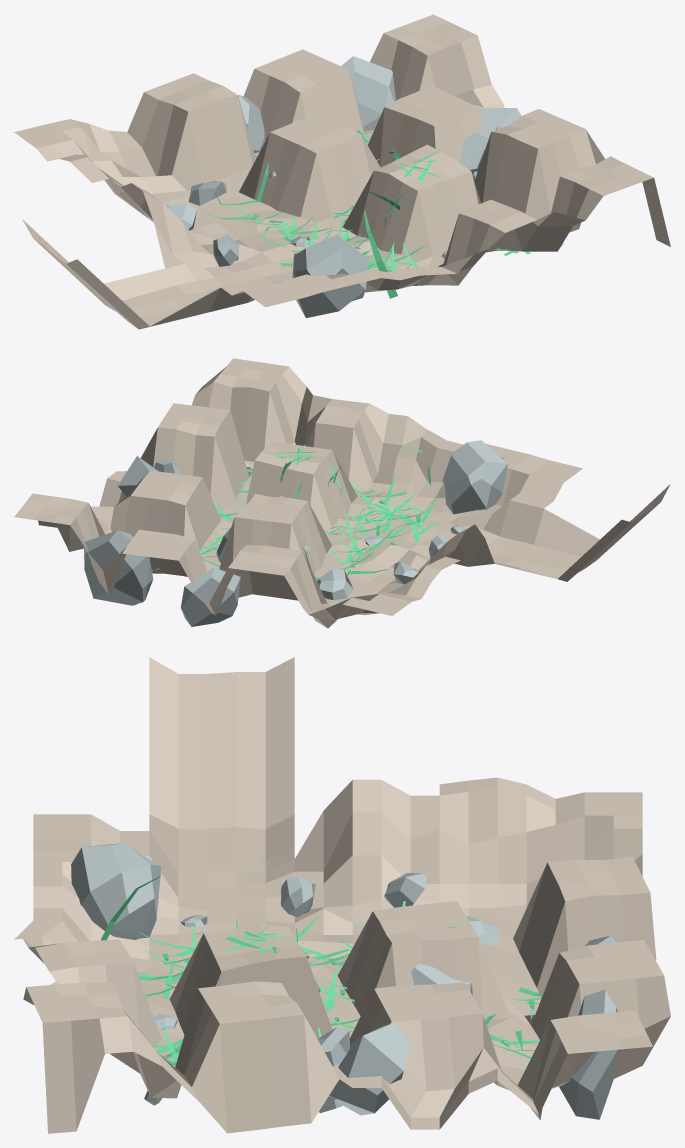
Rendered from 042720map2shadowRecievers.gltf.
3 renders of one model, top to bottom at view 1: azimuth 30°, elevation 25°; view 2: azimuth 150°, elevation 25°; view 3: azimuth 270°, elevation 25°, orthographic. The views are drawn at different scales.
Parts seen in each view (by area): view 1: Plane.001, Cube.009, Cube.032, Cube.034, Cube.031, Cube.023, Cube.041; view 2: Plane.001, Cube.009, Cube.032, Cube.031, Cube.023, Cube.034; view 3: Plane.001, Cube.009, Cube.034, Cube.032, Cube.041, Cube.019, Cube.035, Cube.030.
Boxes of the visible parts, box(x1,y1,x2,y2) form: Plane.001: box(14, 14, 670, 329); Cube.009: box(292, 234, 369, 318); Cube.032: box(341, 56, 395, 131); Cube.034: box(459, 108, 521, 174); Cube.031: box(238, 95, 265, 153); Cube.023: box(188, 181, 226, 205); Cube.041: box(213, 234, 239, 266); Plane.001: box(14, 358, 670, 628); Cube.009: box(442, 440, 507, 514); Cube.032: box(83, 530, 153, 605); Cube.031: box(181, 567, 240, 626); Cube.023: box(317, 569, 353, 599); Cube.034: box(118, 456, 158, 495); Plane.001: box(14, 657, 670, 1133); Cube.009: box(71, 843, 161, 939); Cube.034: box(329, 1023, 410, 1115); Cube.032: box(559, 989, 618, 1119); Cube.041: box(280, 876, 315, 917); Cube.019: box(384, 873, 426, 907); Cube.035: box(317, 1027, 349, 1066); Cube.030: box(411, 963, 472, 995).
Bounding box in the file's own units: 83.7 × 17.97 × 64.69.
